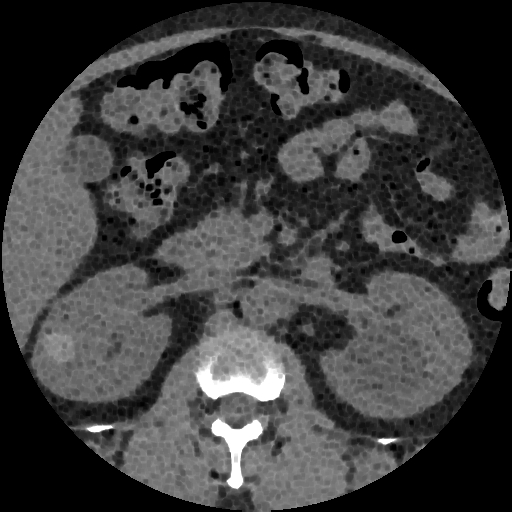Lesion: (37, 330, 80, 370)
